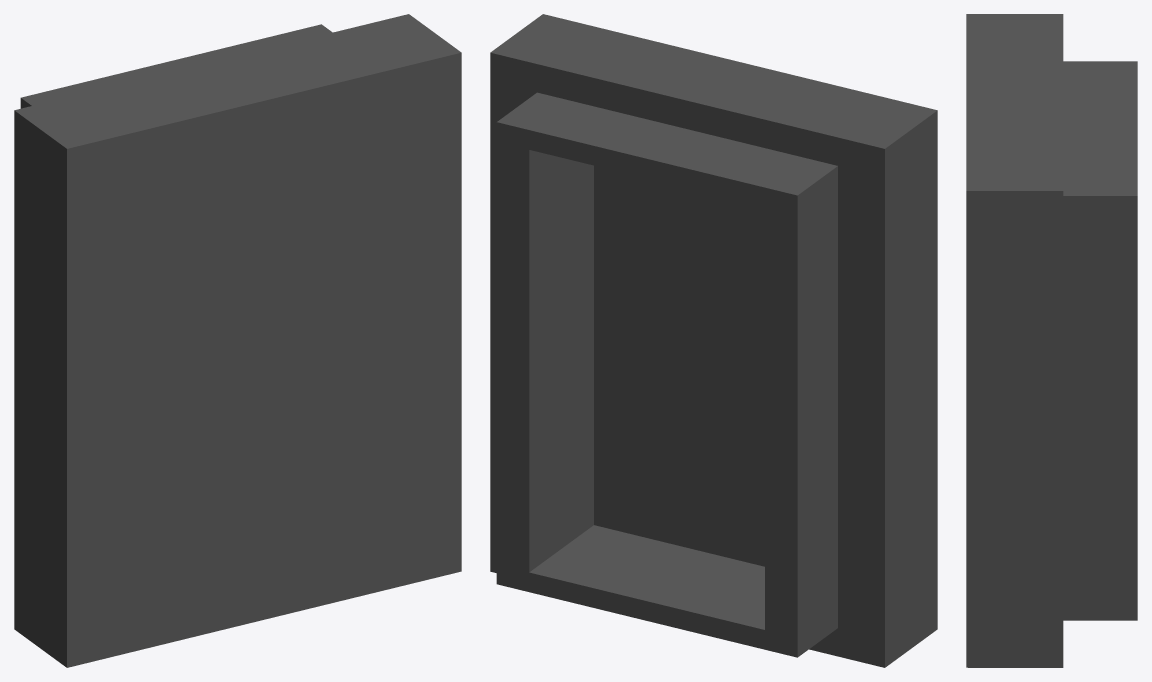
File: Itr_Obj_Fridge1_Bottom_Door_Right_06.FBX
The picture shows the model from 3 angles, left to right: view 1: azimuth 30°, elevation 25°; view 2: azimuth 150°, elevation 25°; view 3: azimuth 270°, elevation 25°; orthographic projection. The views are drawn at different scales.
Visible parts, largest first — view 1: Itr_Obj_Fridge1_Bottom_Door_Right_06; view 2: Itr_Obj_Fridge1_Bottom_Door_Right_06; view 3: Itr_Obj_Fridge1_Bottom_Door_Right_06.
Part boxes in pixels (left/top/right/bottom): Itr_Obj_Fridge1_Bottom_Door_Right_06: left=14, top=14, right=461, bottom=667; Itr_Obj_Fridge1_Bottom_Door_Right_06: left=490, top=14, right=937, bottom=667; Itr_Obj_Fridge1_Bottom_Door_Right_06: left=966, top=14, right=1137, bottom=667.
Size of the model in its own units: 22.45 by 28.21 by 9.19.
